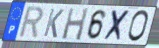6: (86, 9, 107, 41)
H: (60, 7, 90, 42)
K: (42, 7, 66, 39)
O: (126, 10, 150, 44)
R: (17, 6, 46, 40)
X: (102, 9, 132, 43)
